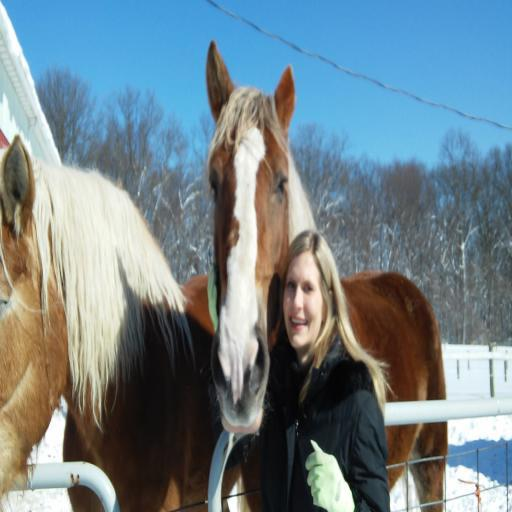Horse: (208, 40, 448, 512), (0, 133, 244, 510)
